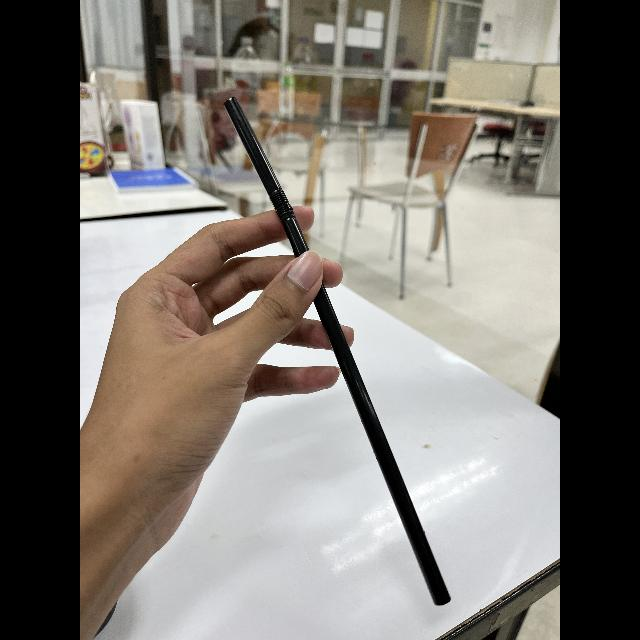straw: (223, 99, 451, 614)
